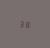eight: (24, 19, 28, 28)
three: (19, 19, 23, 27)
